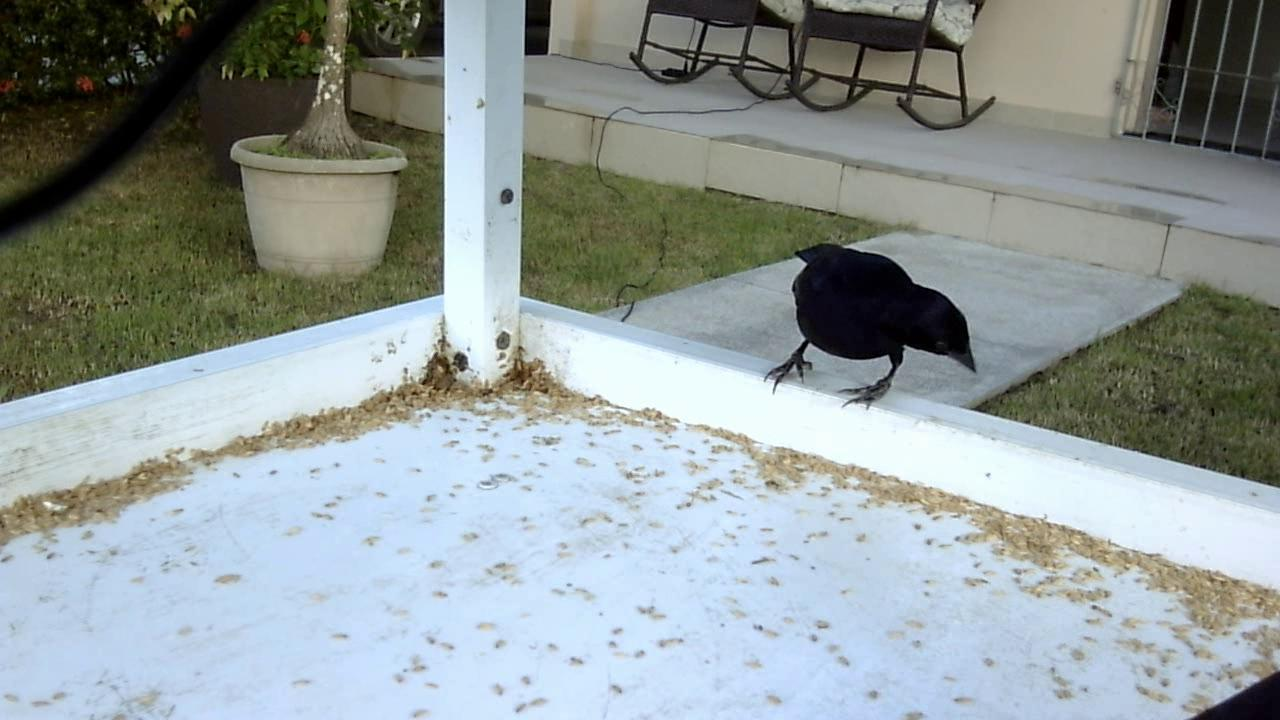chupim: (756, 230, 978, 423)
